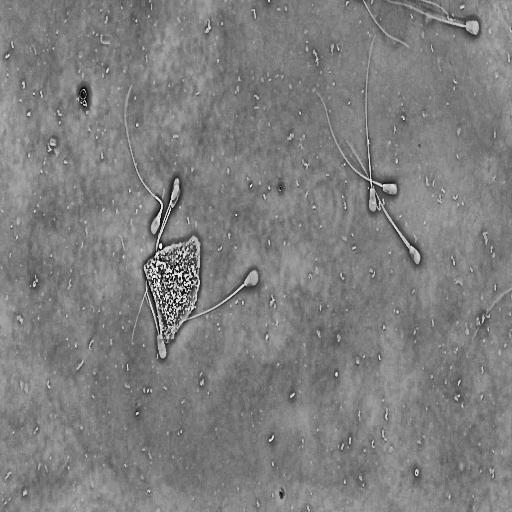dirt-particles: (141, 233, 202, 347), (75, 83, 89, 110)
folded-tail: (124, 87, 163, 219)
loose-tail: (359, 0, 414, 54)
normal: (343, 134, 424, 265), (313, 86, 399, 198), (133, 179, 183, 333), (166, 265, 261, 339), (121, 79, 164, 238), (390, 0, 483, 38), (364, 30, 378, 214), (144, 266, 169, 361)
proximal-droplet: (158, 177, 180, 251), (170, 199, 172, 205)
